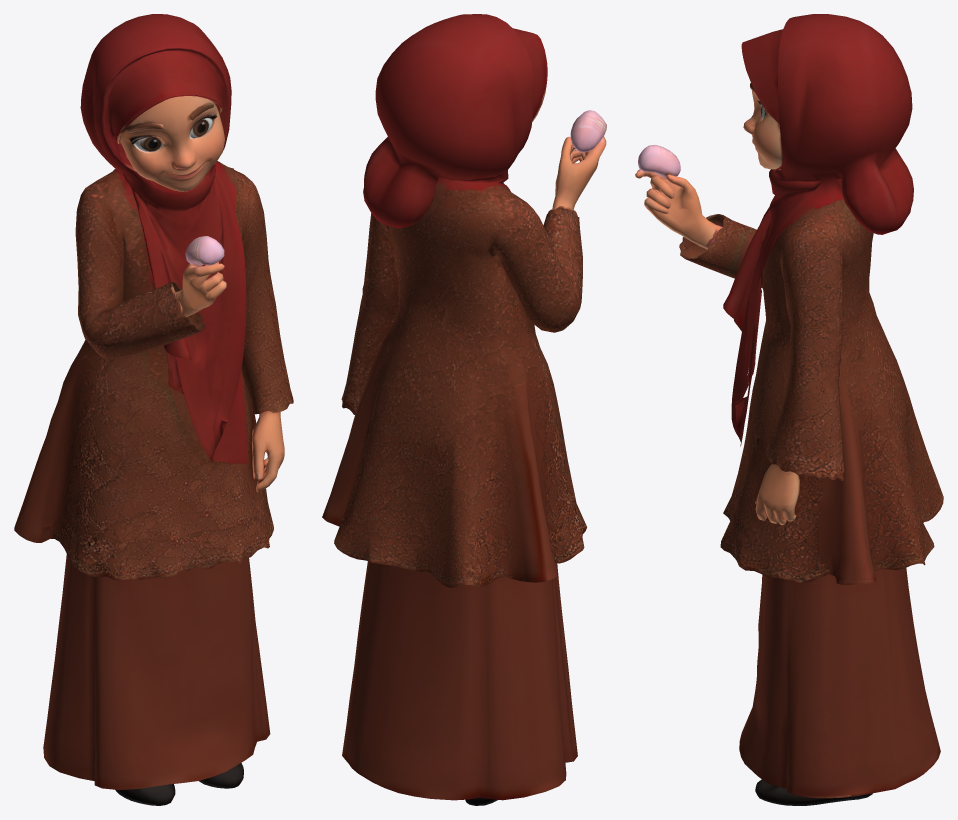
File: Yaya_source.glb
3 views of the same model, side by side, from view 1: azimuth 30°, elevation 25°; view 2: azimuth 150°, elevation 25°; view 3: azimuth 270°, elevation 25° (orthographic).
Parts seen in each view (by area): view 1: edf0927b_f8a6_41e7_9a76_7a5571509336; view 2: edf0927b_f8a6_41e7_9a76_7a5571509336; view 3: edf0927b_f8a6_41e7_9a76_7a5571509336.
Part boxes in pixels (x1,y1,x2,y2): edf0927b_f8a6_41e7_9a76_7a5571509336: (14, 14, 293, 805); edf0927b_f8a6_41e7_9a76_7a5571509336: (322, 14, 606, 805); edf0927b_f8a6_41e7_9a76_7a5571509336: (635, 14, 943, 805).
Bounding box in the file's own units: 0.3286 × 0.9995 × 0.3706.
1 material, 1 textured.
